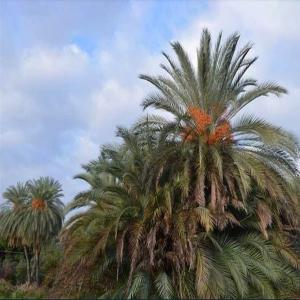palm tree: (54, 26, 300, 299), (20, 175, 64, 286), (0, 180, 31, 285)
